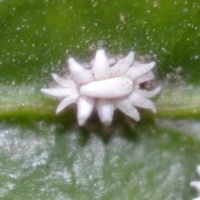insect: (41, 49, 160, 125)
